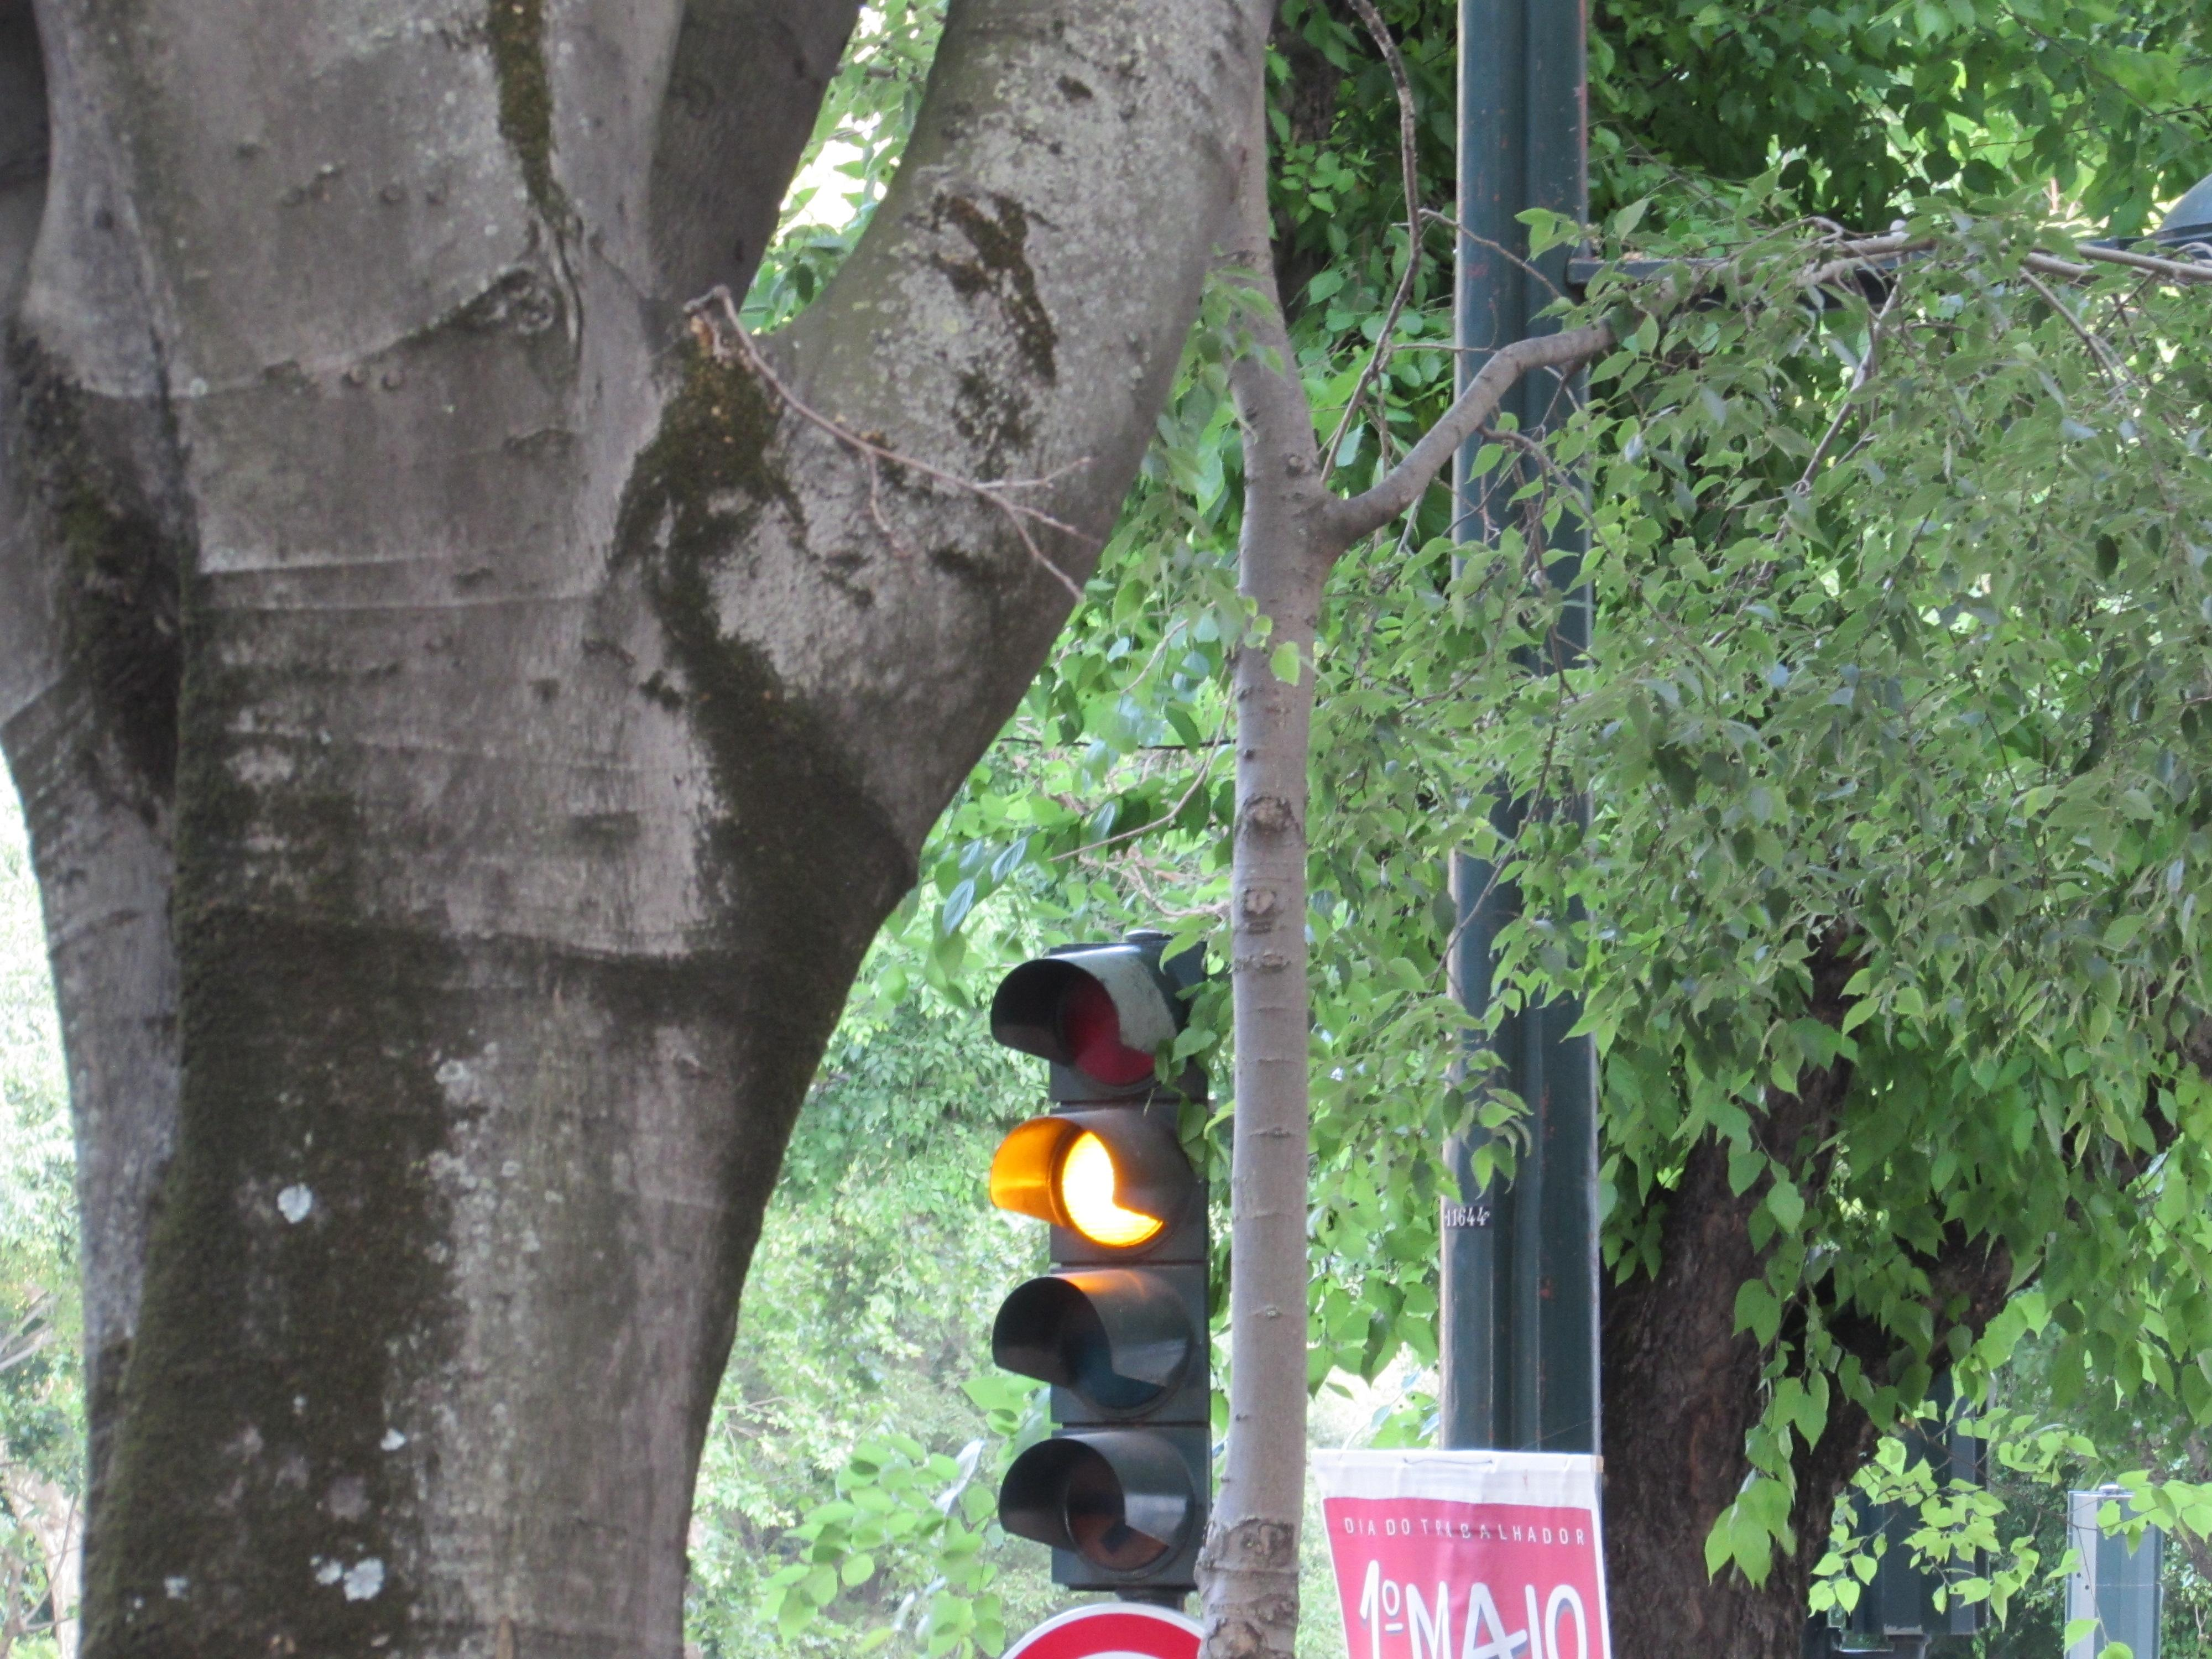yellow_light: (989, 939, 1211, 1422)
